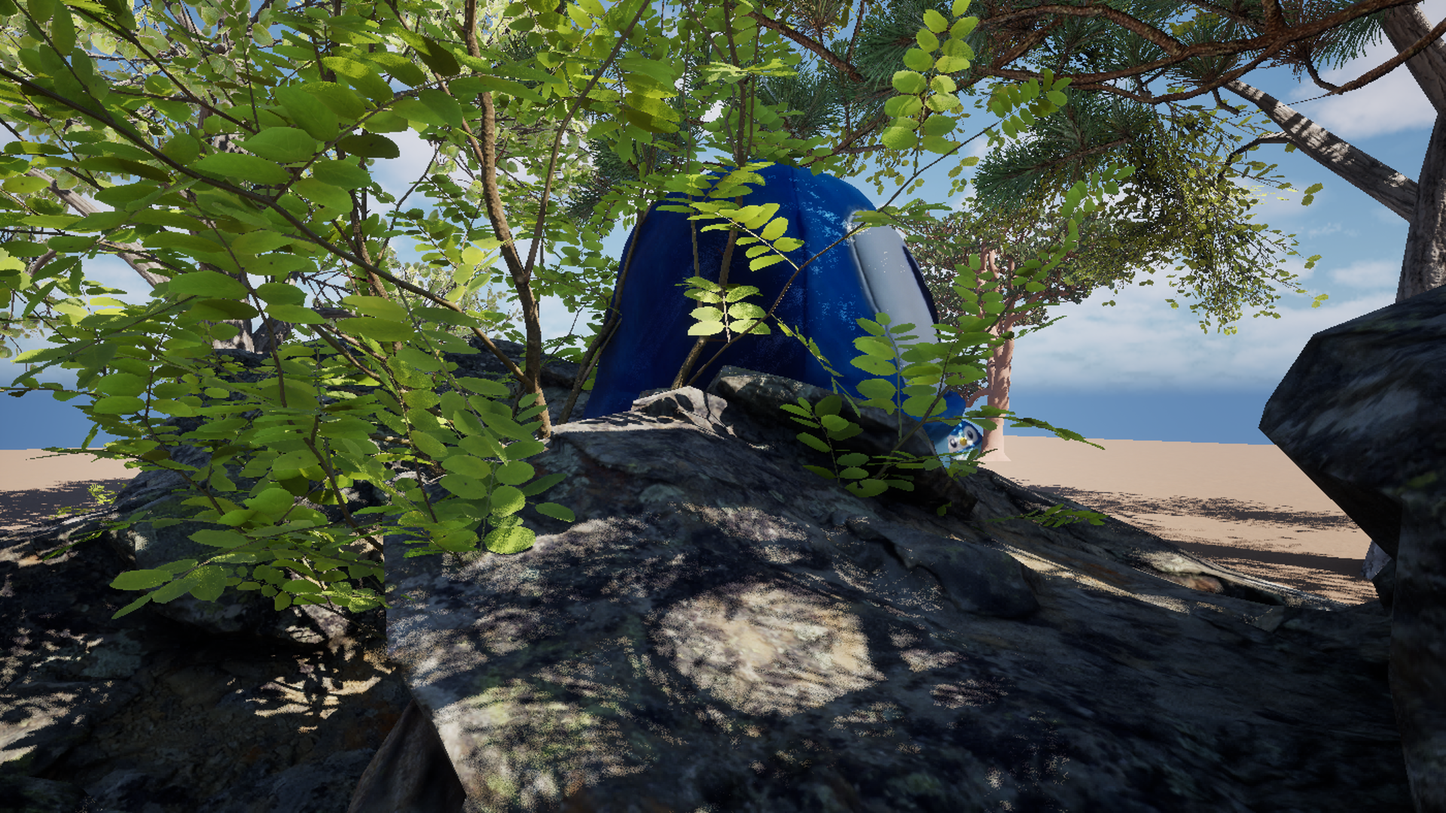Piplup: (316, 0, 1222, 813)
